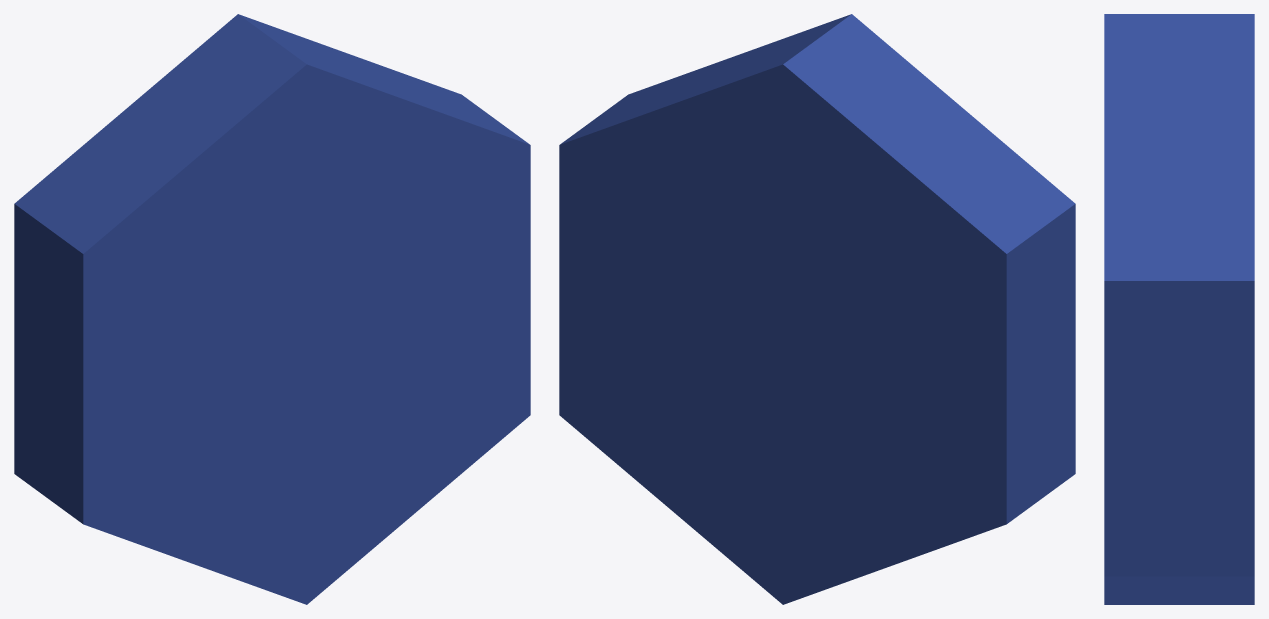
Rendered from tinker.obj.
3 renders of one model, left to right at view 1: azimuth 30°, elevation 25°; view 2: azimuth 150°, elevation 25°; view 3: azimuth 270°, elevation 25°, orthographic. The views are drawn at different scales.
Parts seen in each view (by area): view 1: obj_0; view 2: obj_0; view 3: obj_0.
Part boxes in pixels (x1=…): obj_0: x1=14, y1=14, x2=530, y2=604; obj_0: x1=559, y1=14, x2=1075, y2=604; obj_0: x1=1104, y1=14, x2=1254, y2=604.
Size of the model in its own units: 30 by 34.64 by 8.
